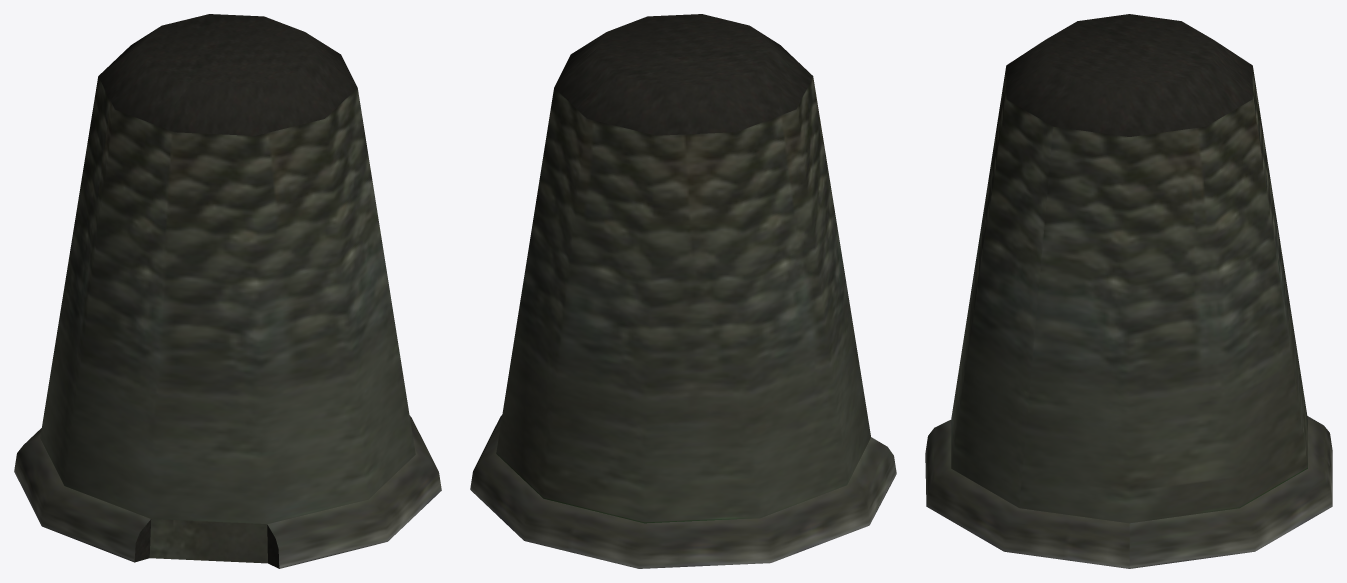
File: Thimble.FBX
3 renders of one model, left to right at view 1: azimuth 30°, elevation 25°; view 2: azimuth 150°, elevation 25°; view 3: azimuth 270°, elevation 25°, orthographic.
Parts seen in each view (by area): view 1: Thimble; view 2: Thimble; view 3: Thimble.
Boxes of the visible parts, bbox=[...] form: Thimble: bbox=[14, 14, 441, 568]; Thimble: bbox=[470, 14, 896, 568]; Thimble: bbox=[925, 14, 1332, 568].
Size of the model in its own units: 145 by 161 by 139.
Materials: 1 (1 with a texture image).
